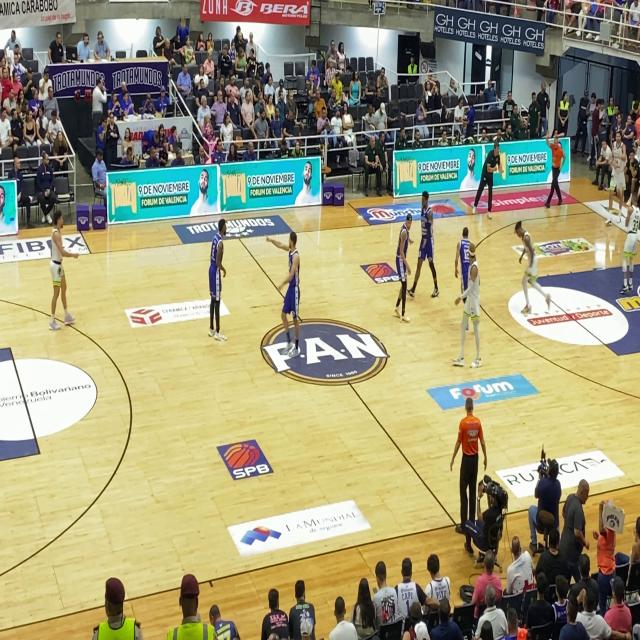referee: (449, 396, 489, 526), (542, 130, 571, 232)
team1: (459, 230, 492, 387), (620, 183, 640, 299)
team2: (277, 224, 309, 406), (200, 213, 230, 336), (413, 185, 440, 306), (390, 213, 414, 321)
